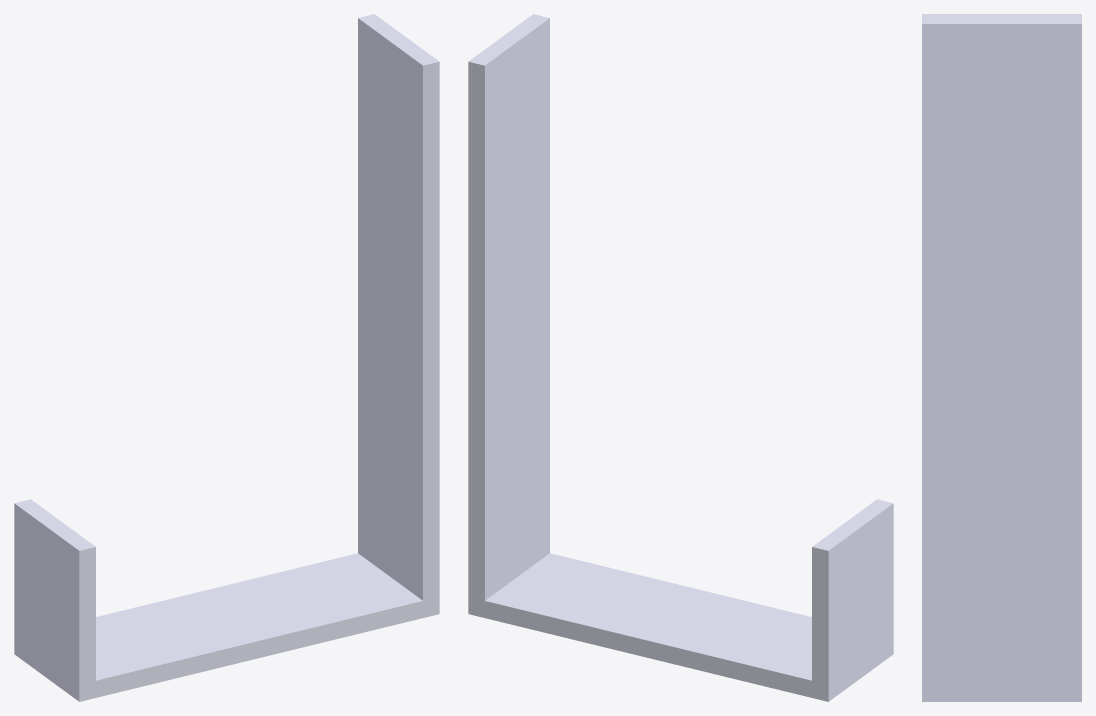
The model's file is 52dcca91-042d-4865-877e-e067e8da5e60.glb.
3 views of the same model, side by side, from view 1: azimuth 30°, elevation 25°; view 2: azimuth 150°, elevation 25°; view 3: azimuth 270°, elevation 25° (orthographic). The views are drawn at different scales.
Parts seen in each view (by area): view 1: j_AlphaProta_Grey; view 2: j_AlphaProta_Grey; view 3: j_AlphaProta_Grey.
Part boxes in pixels (bbox=[...]): j_AlphaProta_Grey: bbox=[14, 14, 439, 701]; j_AlphaProta_Grey: bbox=[468, 14, 893, 701]; j_AlphaProta_Grey: bbox=[922, 14, 1081, 701].
Size of what is drawn, in the model's own units: 0.1436 by 0.2105 by 0.045.
Materials: 2 (2 with a texture image).
